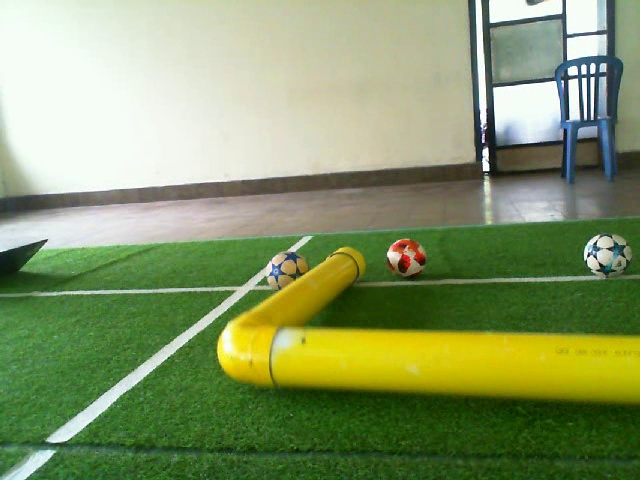ball: (581, 230, 634, 279), (265, 249, 310, 292), (385, 237, 429, 279)
